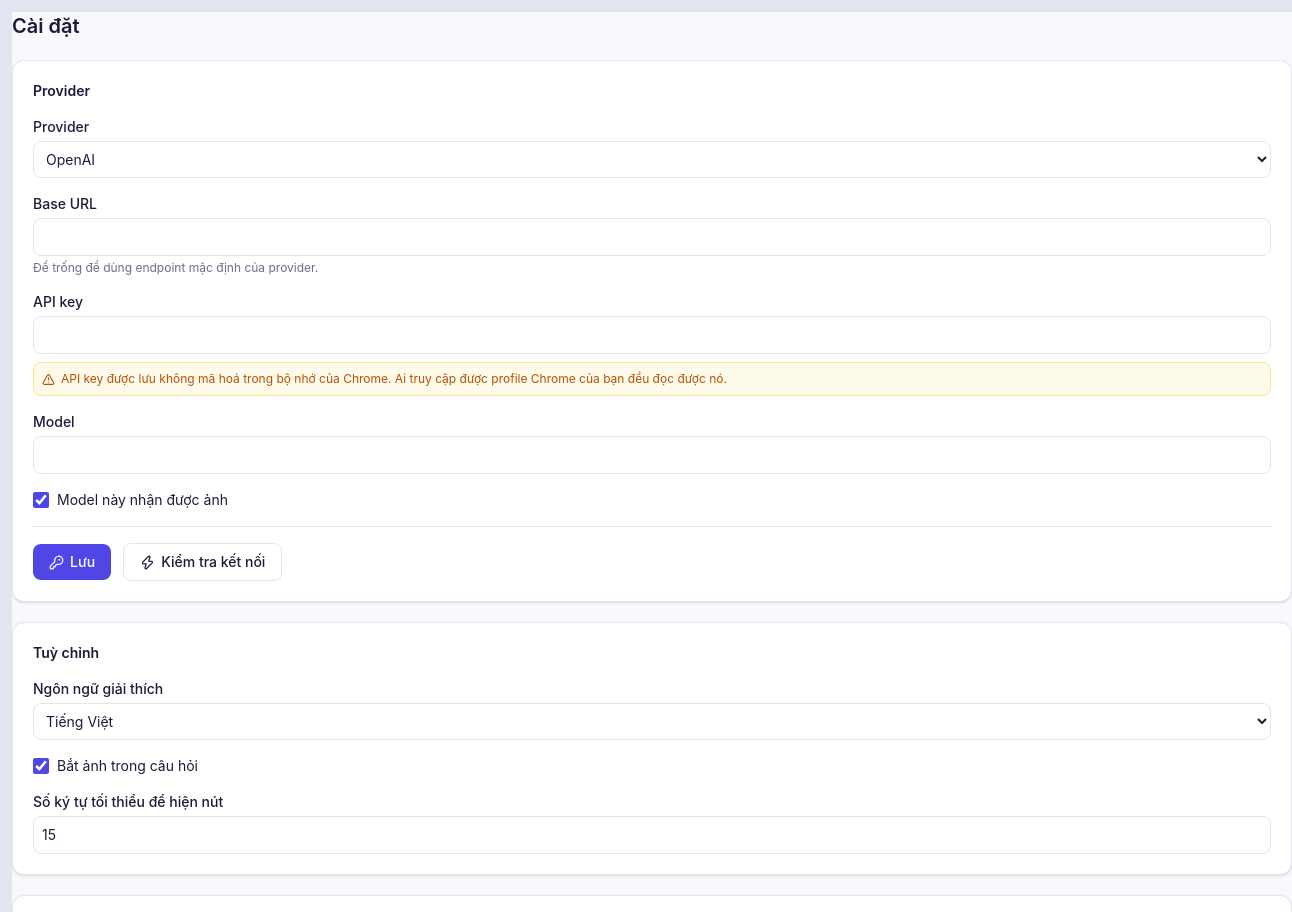
Scenario: Settings view › blocks saving until apiKey and model are both filled in
Click the button "Lưu". click: click(72, 562)
box: [33,544,111,580]
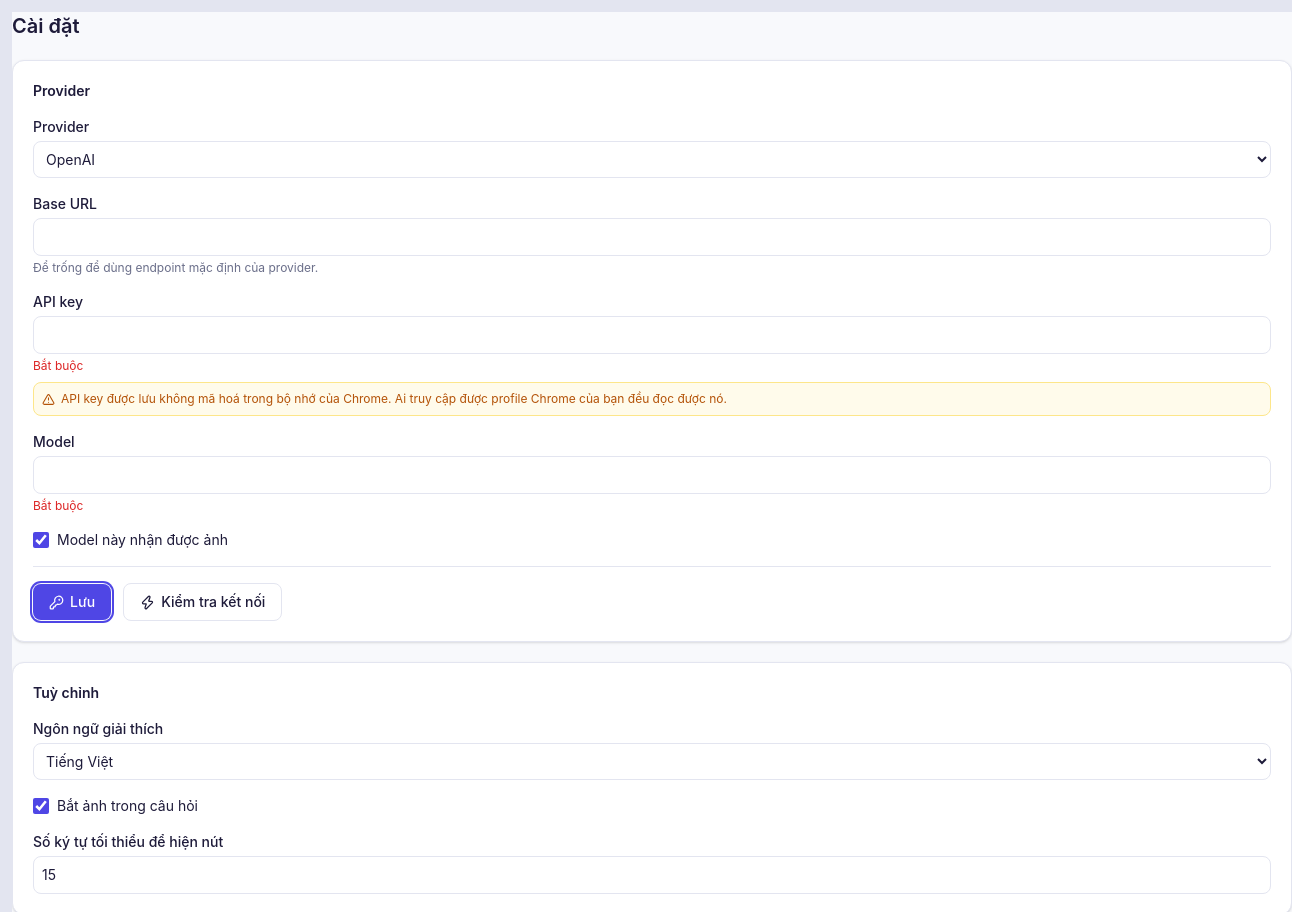
Now the text "Bắt buộc" is shown 2 times, box [33,358,83,373]; [33,498,83,513]
